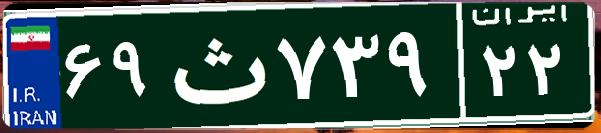2: (475, 38, 525, 113), (525, 38, 570, 115)
3: (330, 28, 385, 110)
6: (57, 26, 110, 107)
7: (273, 28, 330, 110)
9: (385, 28, 445, 110), (110, 28, 158, 105)
ث: (158, 15, 273, 115)
